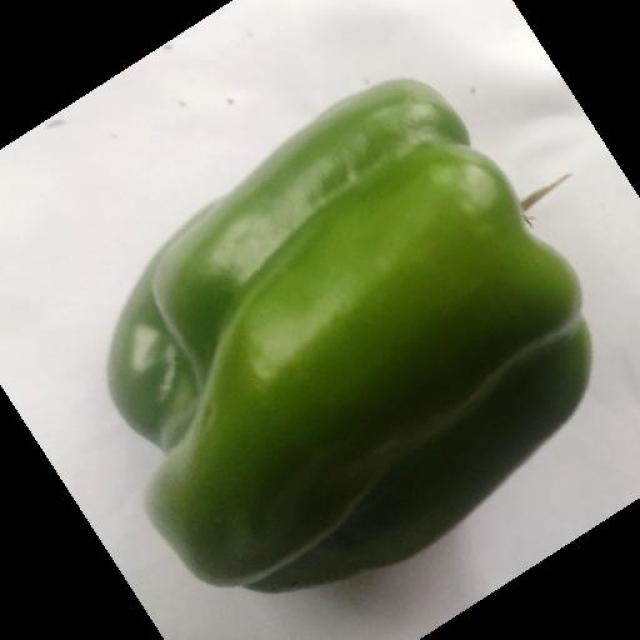Fresh_Capsicum: (98, 93, 593, 587)
